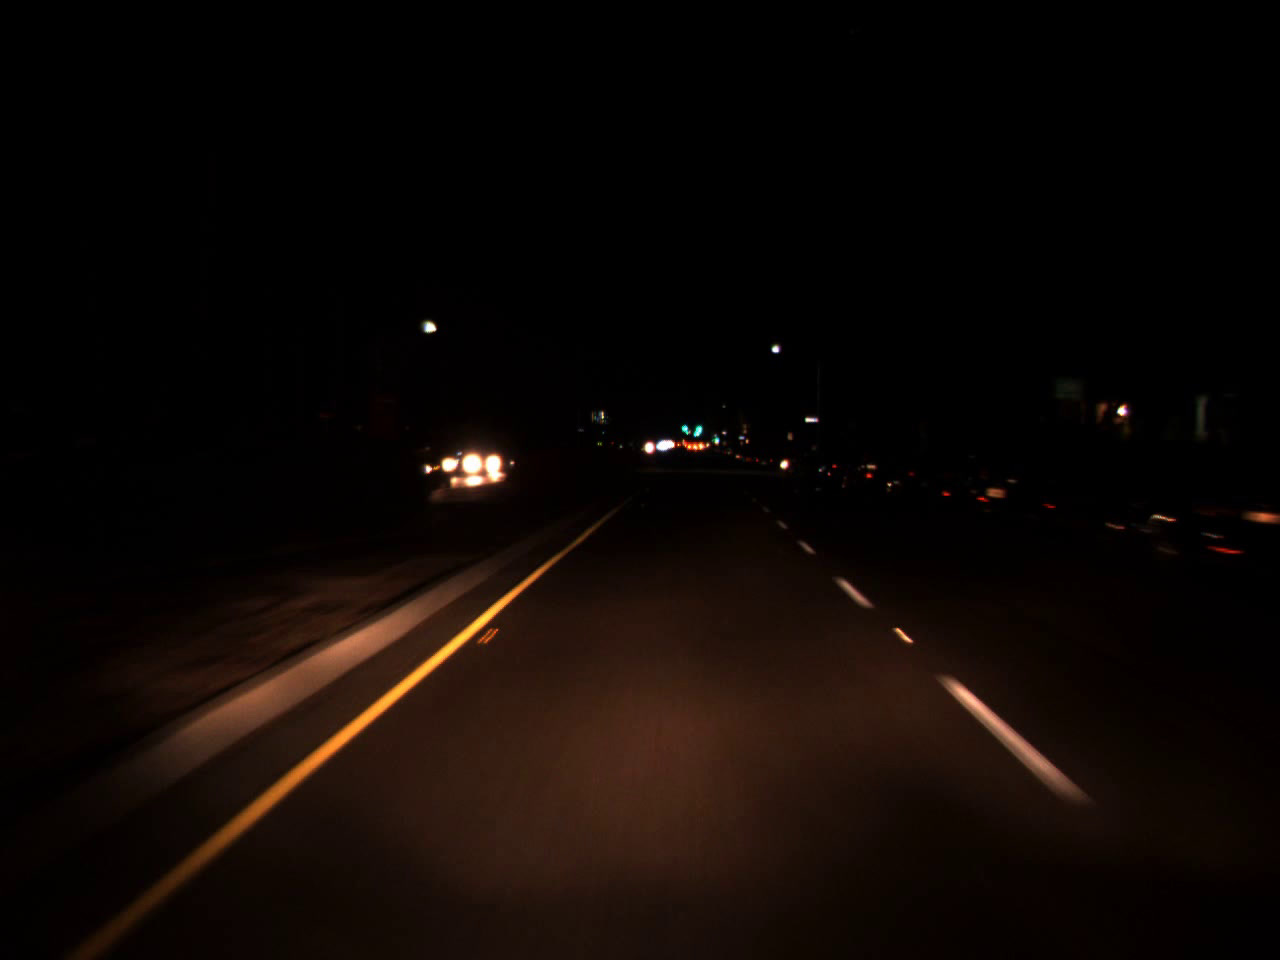go: (690, 411, 703, 441), (679, 417, 689, 435), (711, 429, 720, 444)
